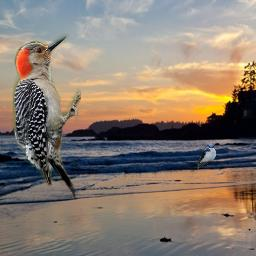Swallow: (196, 143, 216, 169)
Woodpecker: (7, 31, 81, 209)
